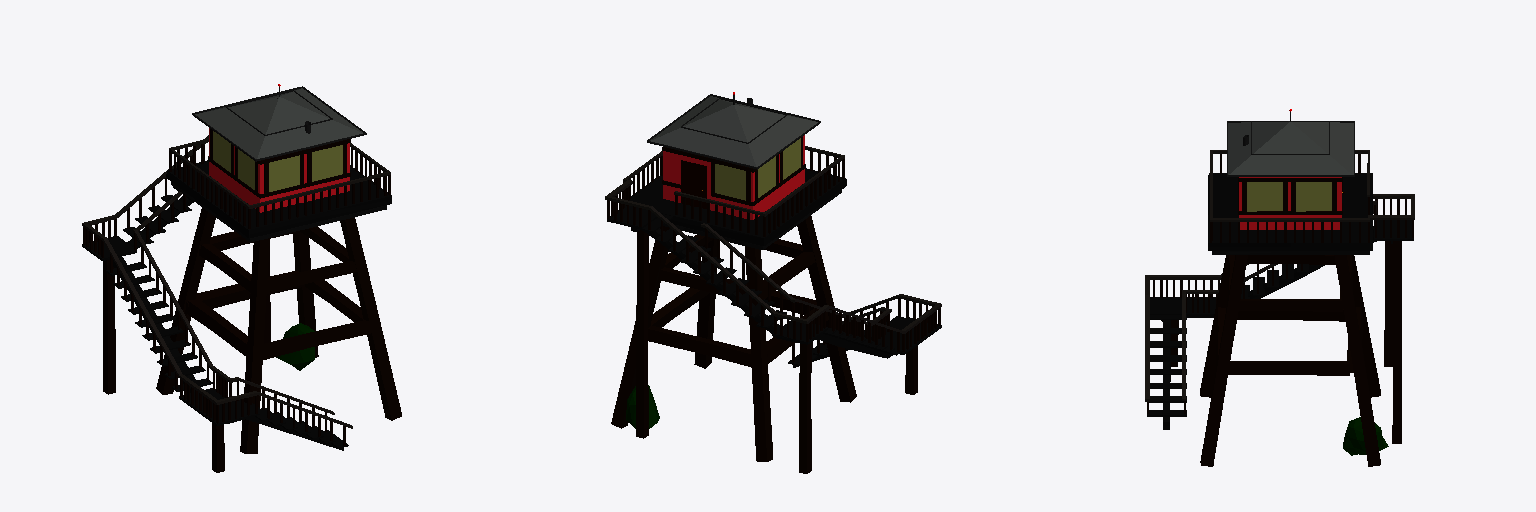
The model's file is firewatch.obj.
3 renders of one model, left to right at view 1: azimuth 30°, elevation 25°; view 2: azimuth 150°, elevation 25°; view 3: azimuth 270°, elevation 25°, orthographic.
Parts seen in each view (by area): view 1: roof, Cube.005, Cube.013, Cube.003, Cube.002, Cube.001, Cube.018, Cube.057, Cube.040, Cube.031, Cube.025, Cube.038 (+19 smaller); view 2: roof, Cube.005, Cube.013, Cube.001, Cube.032, Cube.002, Cube.057, Cube, Cube.039, Plane.010, Cube.031, Cube.003 (+17 smaller); view 3: Cube.005, roof, Cube.003, Cube, Cube.013, Cube.032, Cube.037, Cube.045, Cube.057, Cube.033, Cube.002, Cube.001 (+12 smaller).
Boxes of the visible parts, box(x1,y1,x2,y2) form: roof: box(195, 88, 362, 158); Cube.005: box(113, 160, 391, 450); Cube.013: box(82, 135, 390, 428); Cube.003: box(340, 217, 401, 420); Cube.002: box(240, 238, 269, 453); Cube.001: box(156, 208, 215, 394); Cube.018: box(106, 262, 212, 391); Cube.057: box(209, 128, 349, 212); Cube.040: box(263, 320, 376, 359); Cube.031: box(103, 260, 115, 394); Cube.025: box(133, 191, 334, 414); Cube.038: box(185, 300, 247, 356); roof: box(650, 96, 817, 166); Cube.005: box(629, 168, 892, 367); Cube.013: box(605, 146, 941, 333); Cube.001: box(745, 246, 772, 461); Cube.032: box(636, 230, 648, 438); Cube.002: box(797, 216, 856, 402); Cube.057: box(663, 135, 804, 219); Cube: box(611, 226, 669, 428); Cube.039: box(648, 326, 767, 367); Plane.010: box(642, 214, 786, 328); Cube.031: box(799, 342, 811, 473); Cube.003: box(694, 239, 716, 368); Cube.005: box(1161, 173, 1392, 429); roof: box(1228, 122, 1353, 174); Cube.003: box(1200, 255, 1247, 466); Cube: box(1334, 255, 1380, 466); Cube.013: box(1145, 150, 1414, 401); Cube.032: box(1392, 241, 1401, 443); Cube.037: box(1228, 361, 1349, 375); Cube.045: box(1147, 315, 1186, 416); Cube.057: box(1239, 177, 1341, 229); Cube.033: box(1239, 299, 1342, 311); Cube.002: box(1200, 255, 1228, 397); Cube.001: box(1353, 255, 1380, 397).
Bounding box in the file's own units: 110 × 158 × 120.